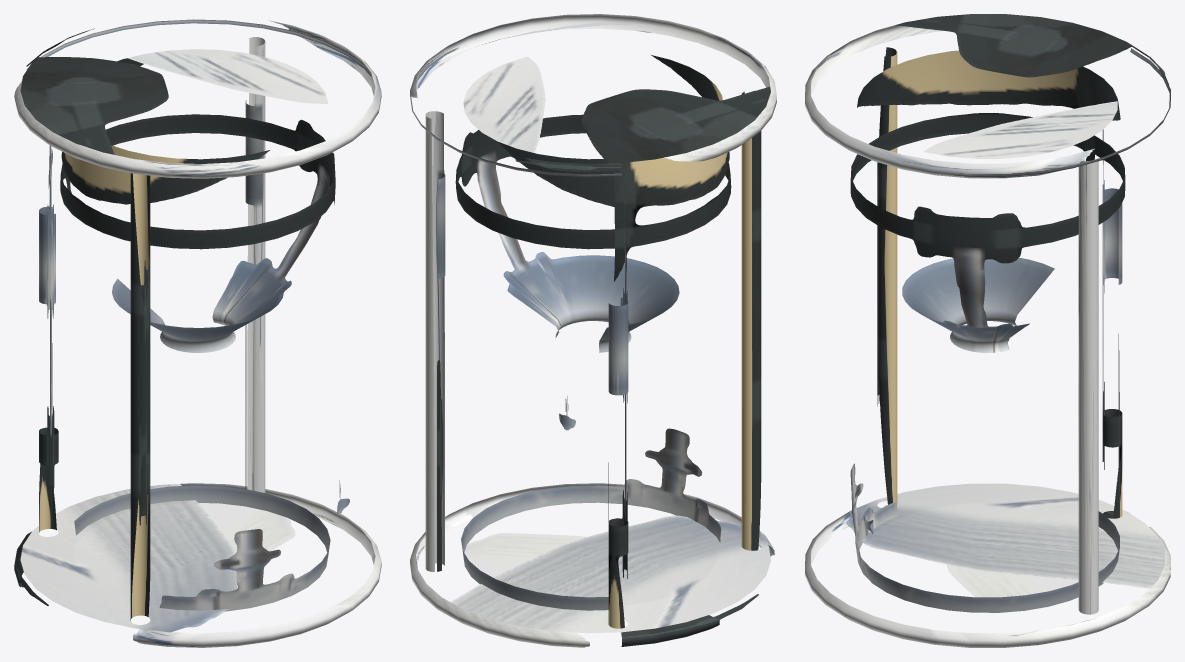
Rendered from StopWatchWeirdZ.fbx.
3 views of the same model, side by side, from view 1: azimuth 30°, elevation 25°; view 2: azimuth 150°, elevation 25°; view 3: azimuth 270°, elevation 25° (orthographic).
Parts seen in each view (by area): view 1: Cylinder.001; view 2: Cylinder.001; view 3: Cylinder.001.
Part boxes in pixels (x1,y1,x2,y2): Cylinder.001: (14, 19, 381, 647); Cylinder.001: (410, 14, 776, 647); Cylinder.001: (805, 14, 1170, 647).
Size of the model in its own units: 199 by 295 by 199.
